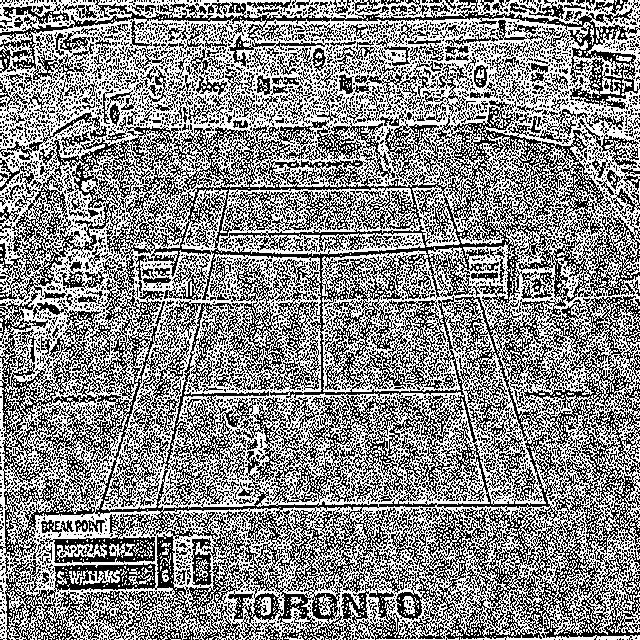left side: (409, 186, 547, 506), (98, 188, 229, 510)
player: (231, 398, 273, 506), (372, 116, 395, 178)
